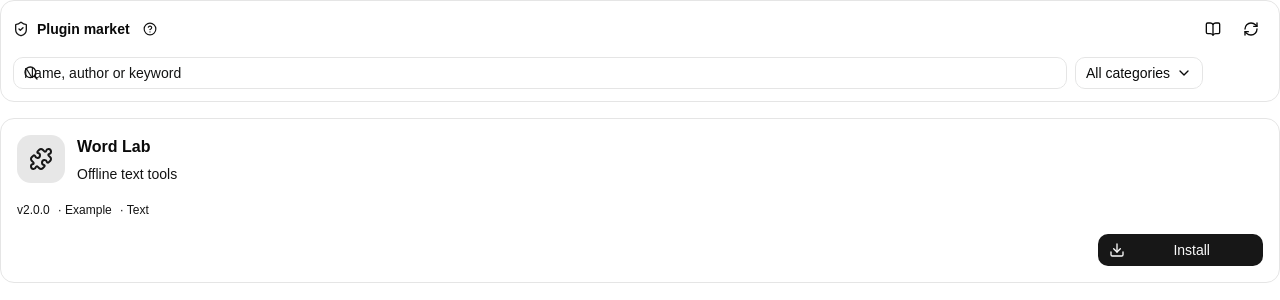
Test: keeps the last verified catalog after refresh fails and identifies it until a valid refresh replaces it
The width and height of the screenshot is (1280, 300).
Expected: the heading "Word Lab" is shown, [77,138,150,155]
Click the button named "Refresh". click: (1251, 29)
box: [1235,13,1267,45]
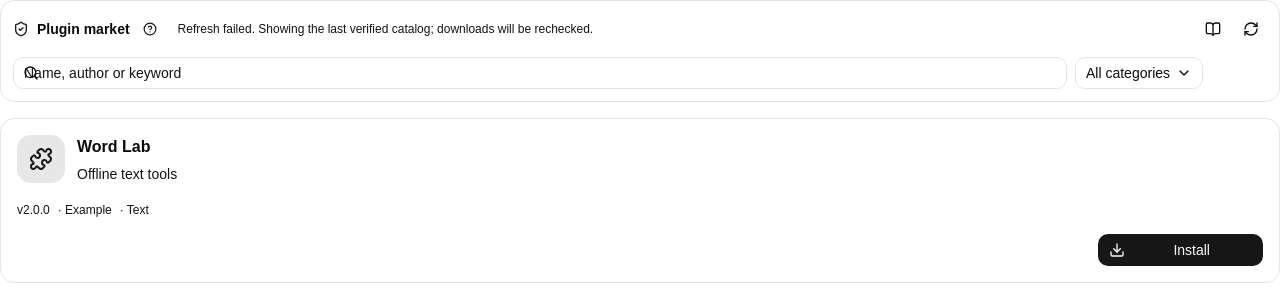
Expected: the heading "Word Lab" is shown, [77,138,150,155]
Result: the message reads "Refresh failed. Showing the last verified catalog; downloads will be rechecked." at [178,22,593,36]
Type "unmatched plugin" into the search field. click: (540, 73)
box: [13,57,1067,89]
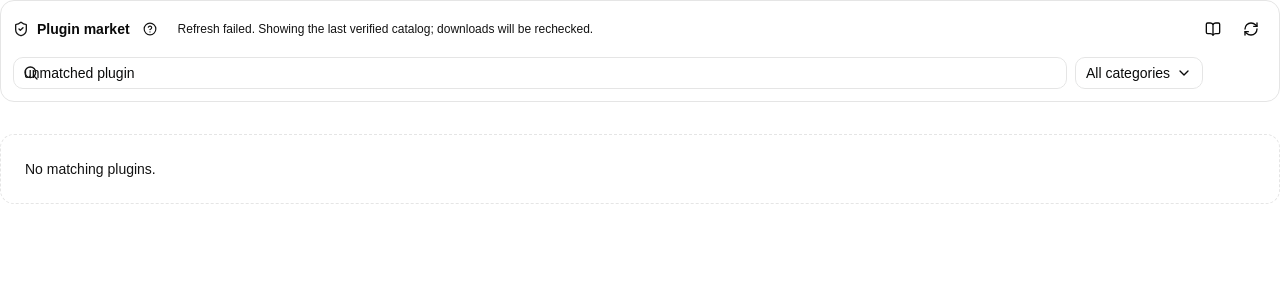
Result: the text "Refresh failed. Showing the last verified catalog; downloads will be rechecked." is shown at [178,22,593,36]
Result: the text "No matching plugins." is shown at [0,134,1279,204]
Click the button named "Refresh". click: (1251, 29)
box: [1235,13,1267,45]
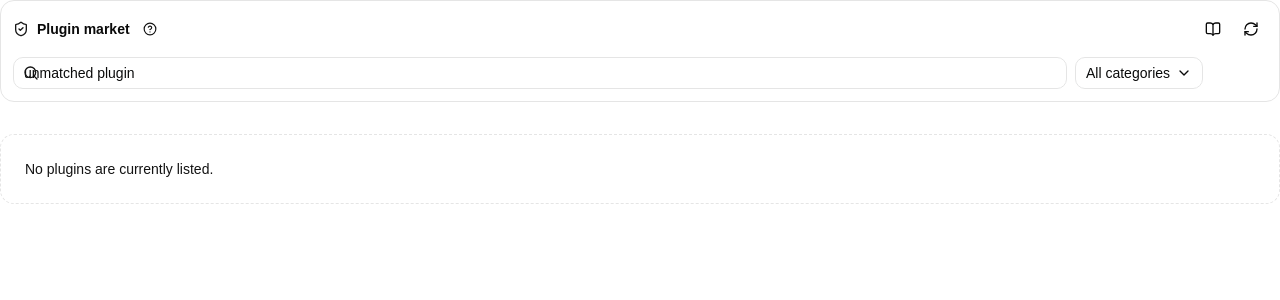
Result: the text "No plugins are currently listed." is shown at [0,134,1279,204]
Result: the message "Refresh failed. Showing the last verified catalog; downloads will be rechecked." is gone
Result: the text "Refresh failed. Showing the last verified catalog; downloads will be rechecked." is gone
